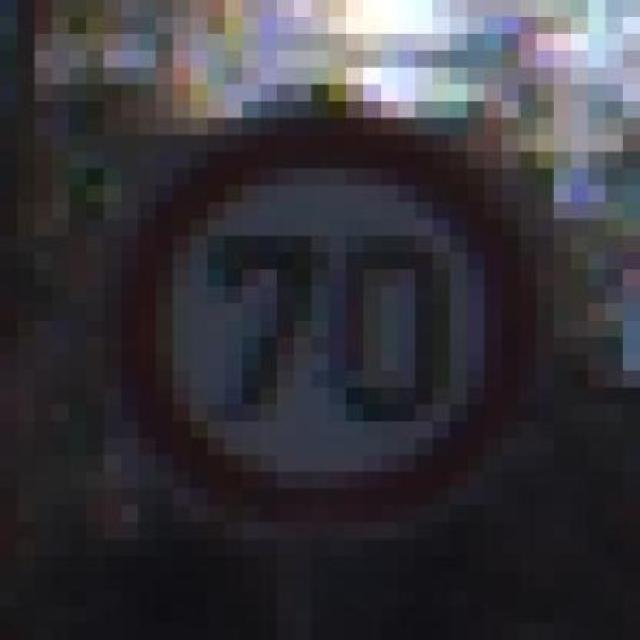forb_speed_over_70: (125, 116, 529, 527)
